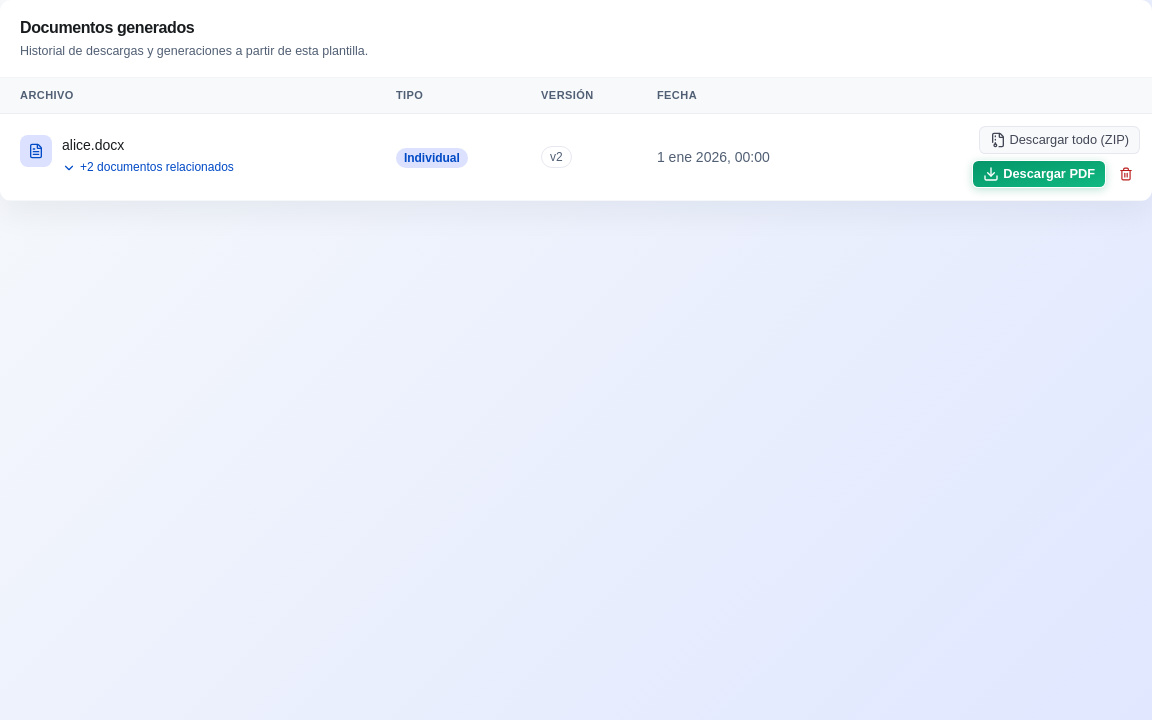
it: DocumentsTab — grouped documents › collapses related documents behind an expander, revealed on click
Check: the text "alice.docx" is shown, box [62,137,124,153]
Check: the text "Recibo de pago" is not shown
Click the button "+2 documentos relacionados".
click(148, 168)  # box [62,159,234,176]
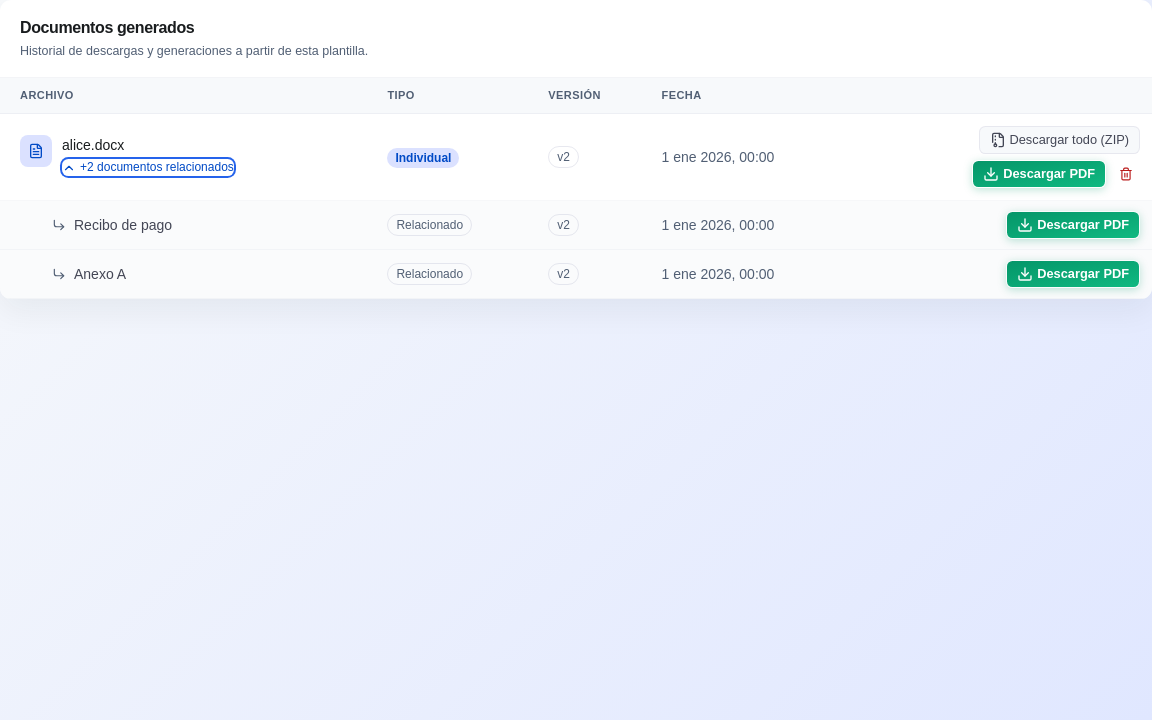
Check: the text "Recibo de pago" is shown, box [74,216,172,236]
Check: the text "Anexo A" is shown, box [74,264,126,284]
